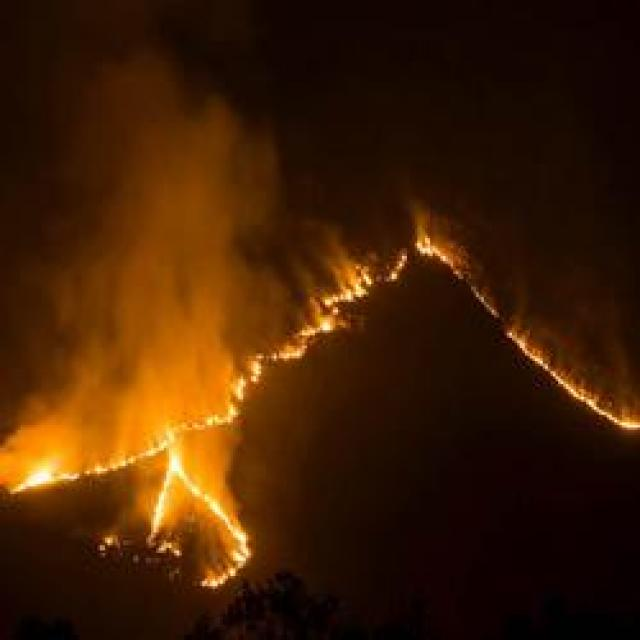fire: (0, 412, 269, 600), (426, 223, 638, 432), (230, 254, 400, 401)
